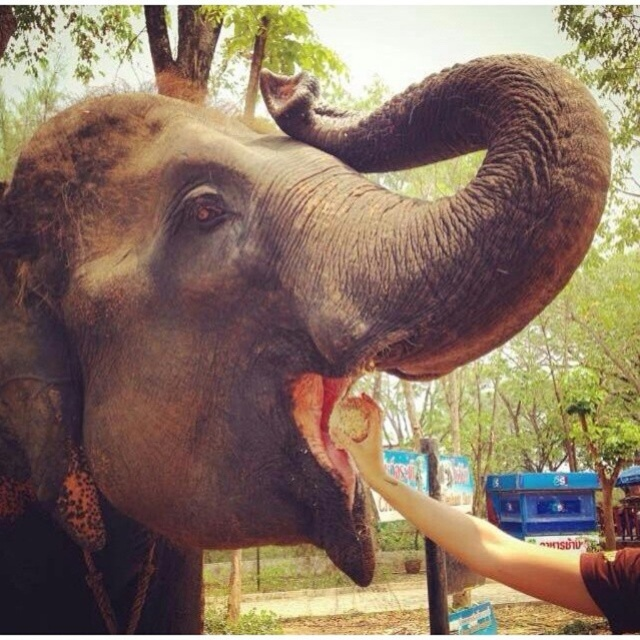Elephant: (0, 53, 612, 635)
